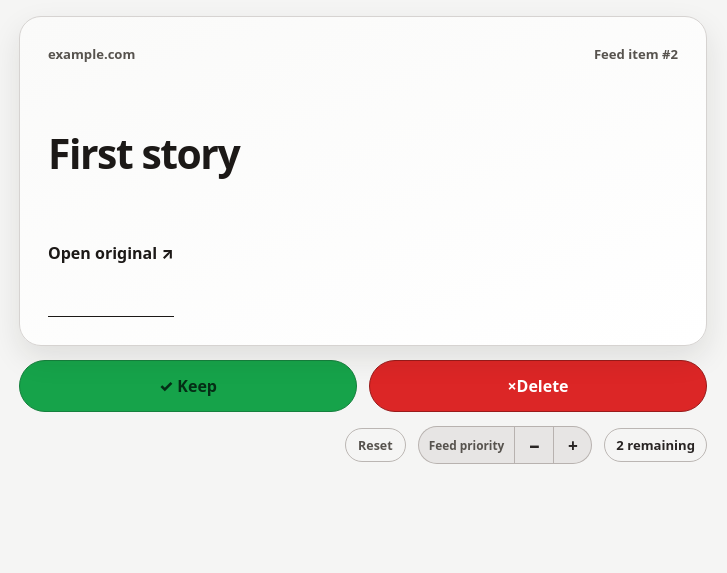
Test: ReaderPage deletion › advances immediately, retries once, and shows a title-specific final error
This screenshot has width=727, height=573.
expect the heading "First story" is shown: met, box [48,125,239,181]
What coordinates should you click on to do the following:
click the button "× Delete"
I would click on:
 (538, 386)
Its box is [369,360,707,412].
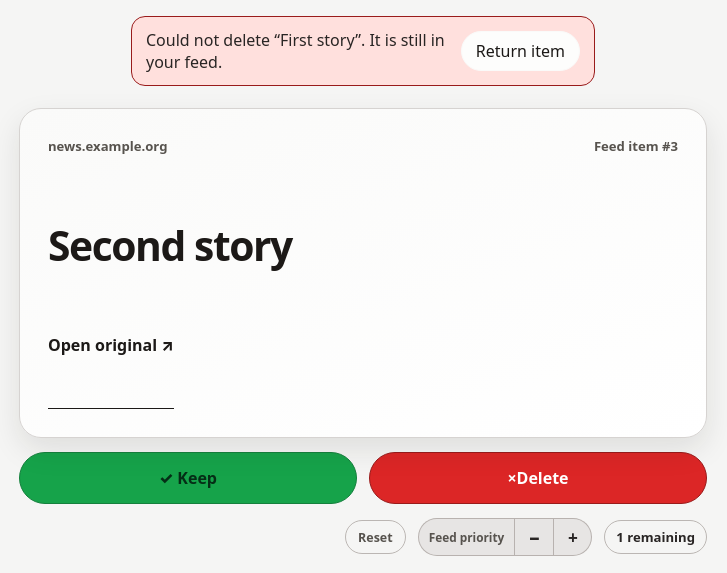
expect the heading "Second story" is shown: met, box [48,217,292,273]
expect the message shows "Could not delete “First story”": met, box [131,16,595,86]
